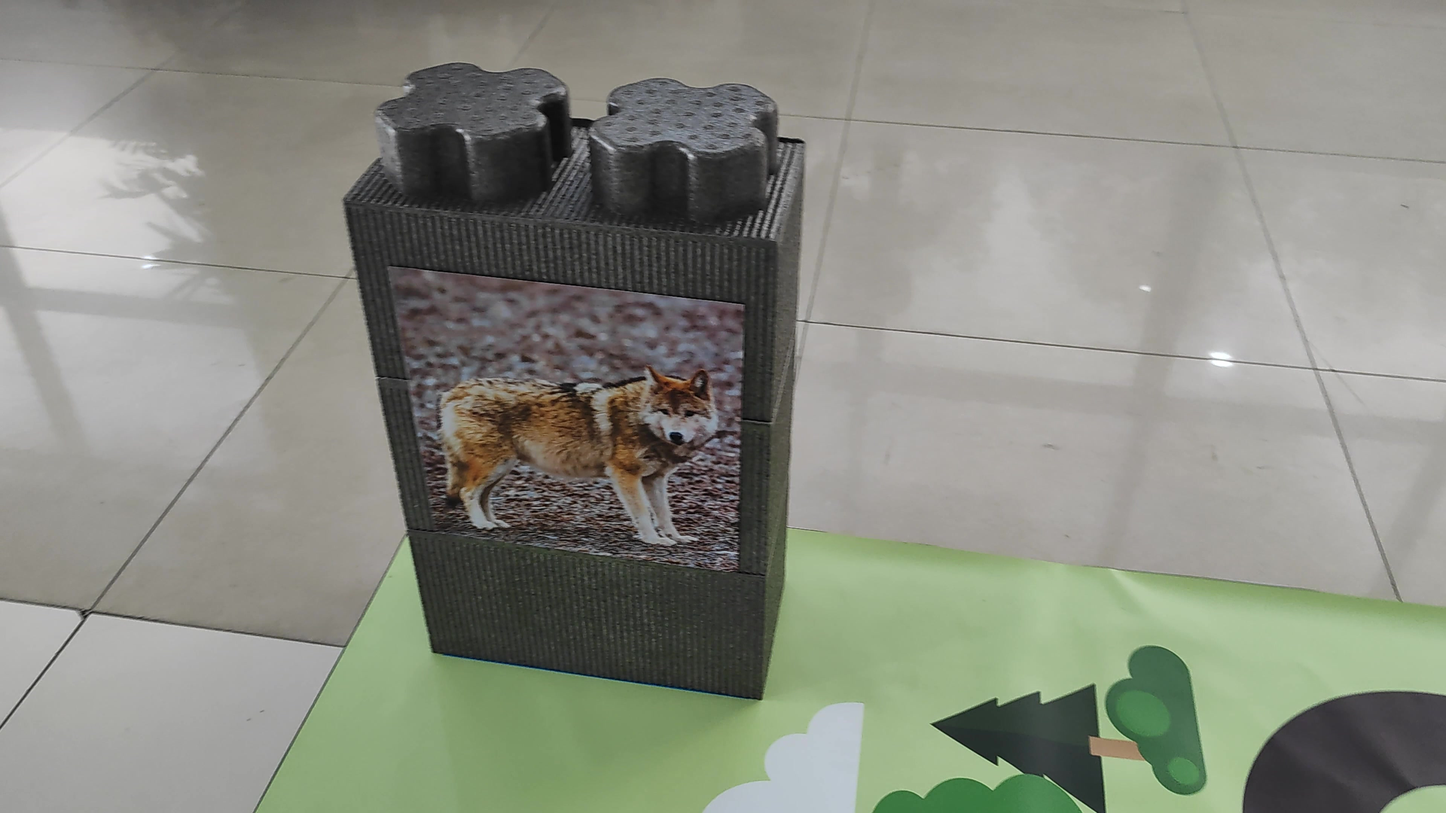wolf: (400, 337, 730, 568)
